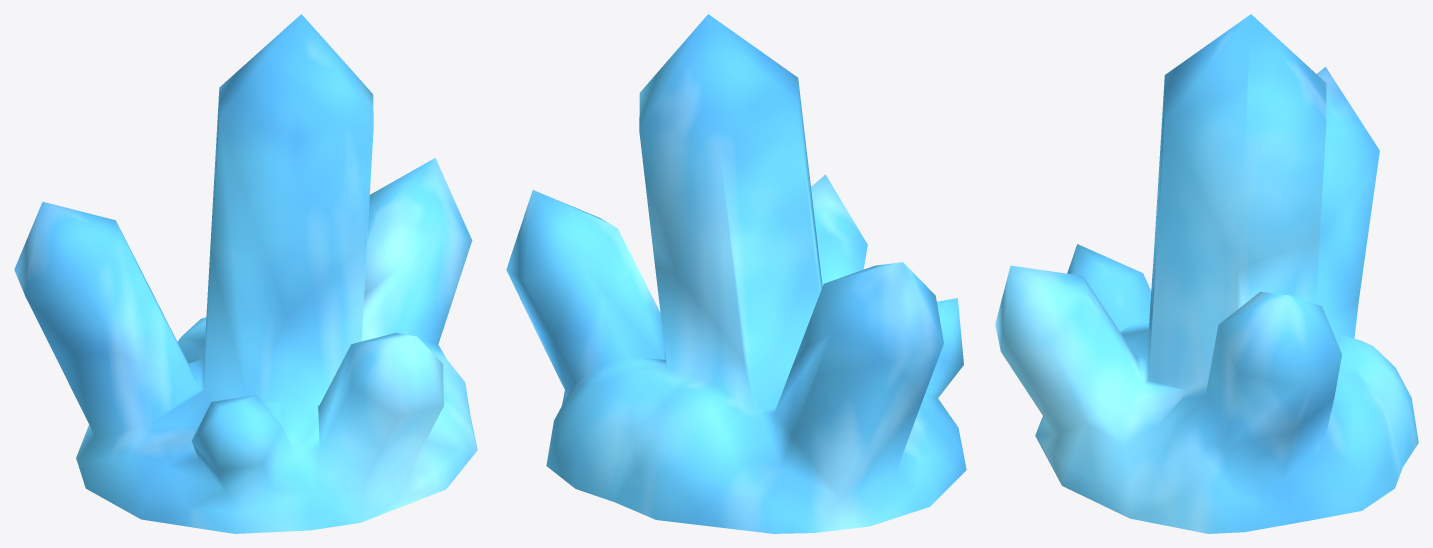
File: SM_Ice_Crystal_1.glb
3 views of the same model, side by side, from view 1: azimuth 30°, elevation 25°; view 2: azimuth 150°, elevation 25°; view 3: azimuth 270°, elevation 25° (orthographic). The views are drawn at different scales.
Parts seen in each view (by area): view 1: SM_Ice_Crystal_1; view 2: SM_Ice_Crystal_1; view 3: SM_Ice_Crystal_1.
Part boxes in pixels (left/top/right/bottom): SM_Ice_Crystal_1: left=14, top=14, right=477, bottom=533; SM_Ice_Crystal_1: left=506, top=14, right=966, bottom=533; SM_Ice_Crystal_1: left=995, top=14, right=1418, bottom=533.
Bounding box in the file's own units: 1.04 × 0.9928 × 0.8587.
1 material, 1 textured.
